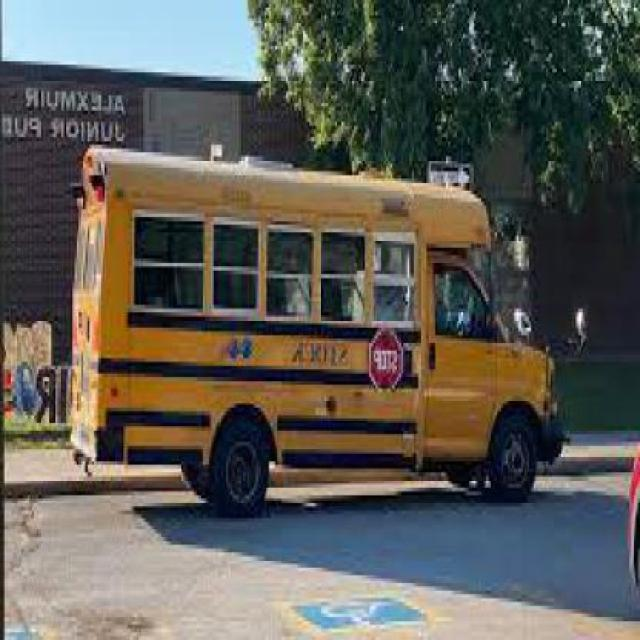bus: (70, 142, 566, 516)
